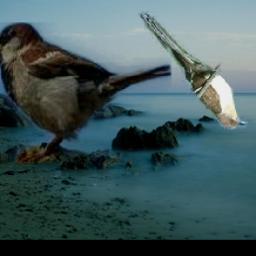Cuckoo: (139, 8, 250, 131)
Sparrow: (0, 23, 171, 164)
